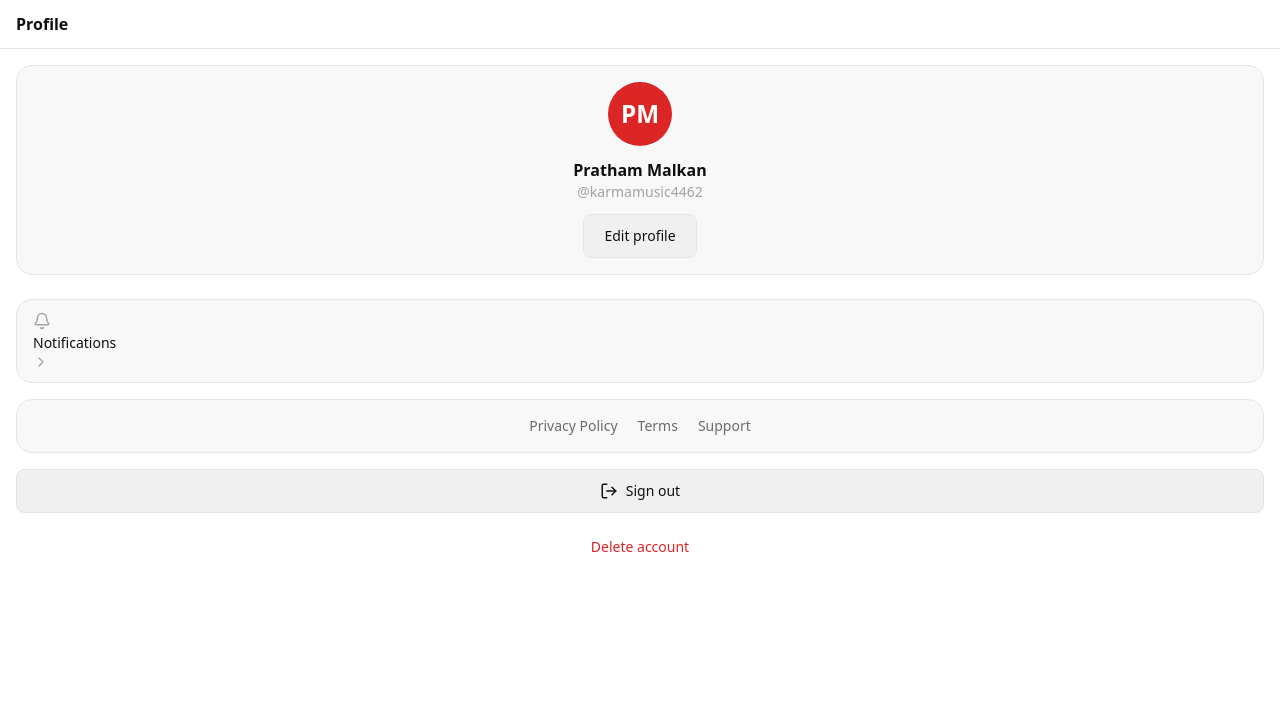
Test case: ProfilePage › 3. Unauthorized profile update is rejected with safe permission message
Click the button "Edit profile".
click(640, 236)  # box [583,214,697,258]
(page scrolled)
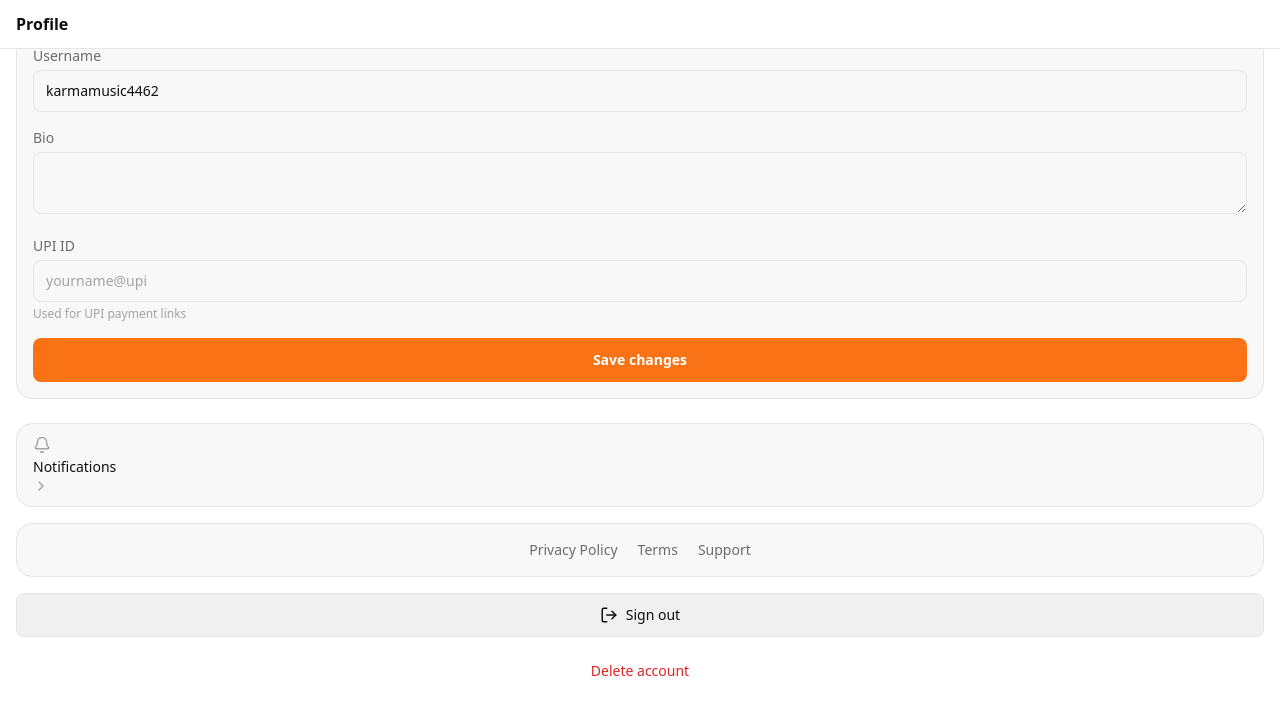
Click the button "Save changes".
click(640, 360)  # box [33,338,1247,382]
(page scrolled)
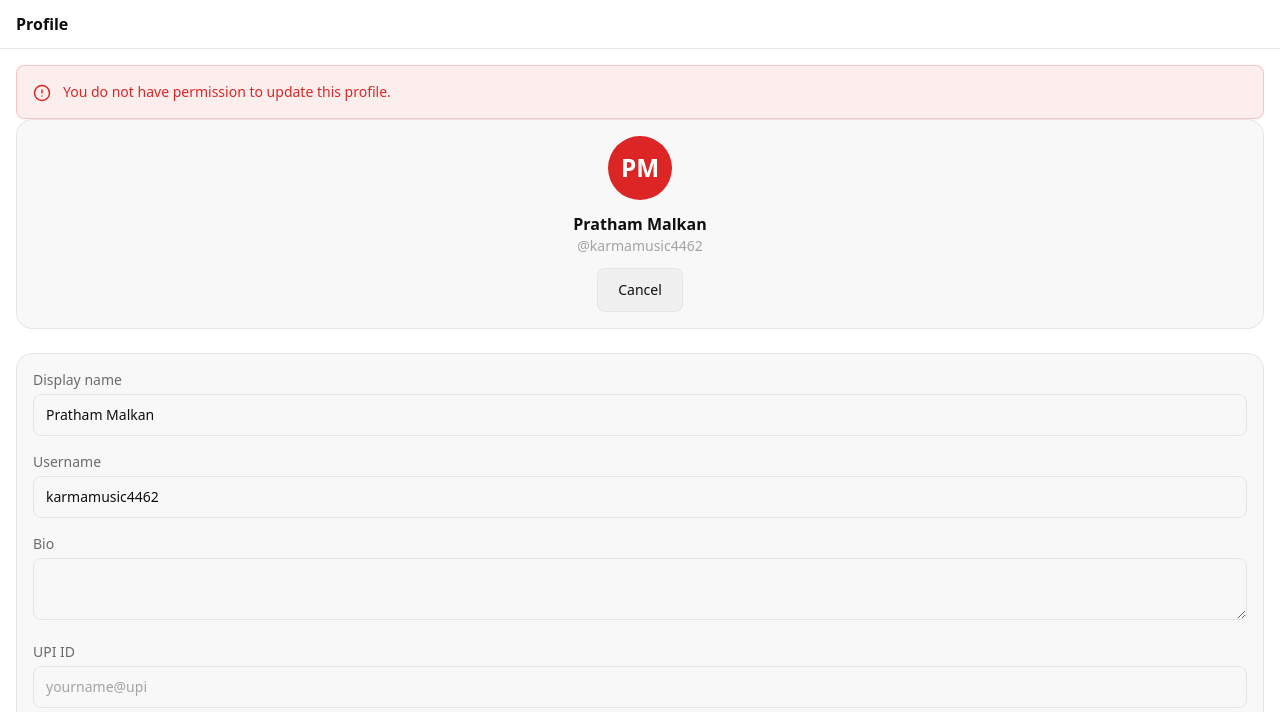
Now the message reads "You do not have permission to update this profile.", box [63,82,391,101]
